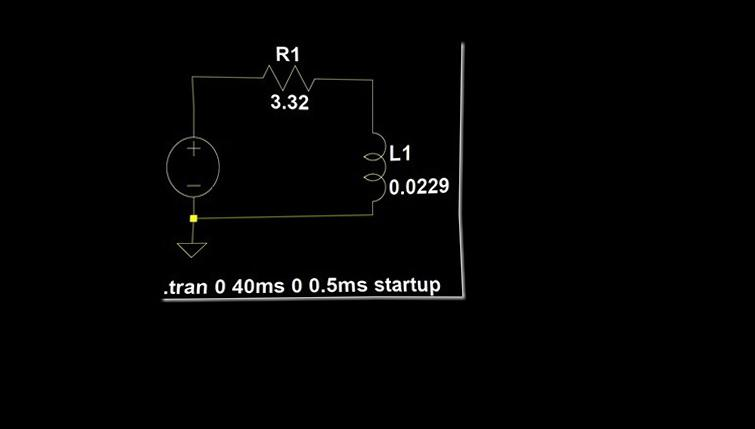Battery: (153, 122, 233, 204)
